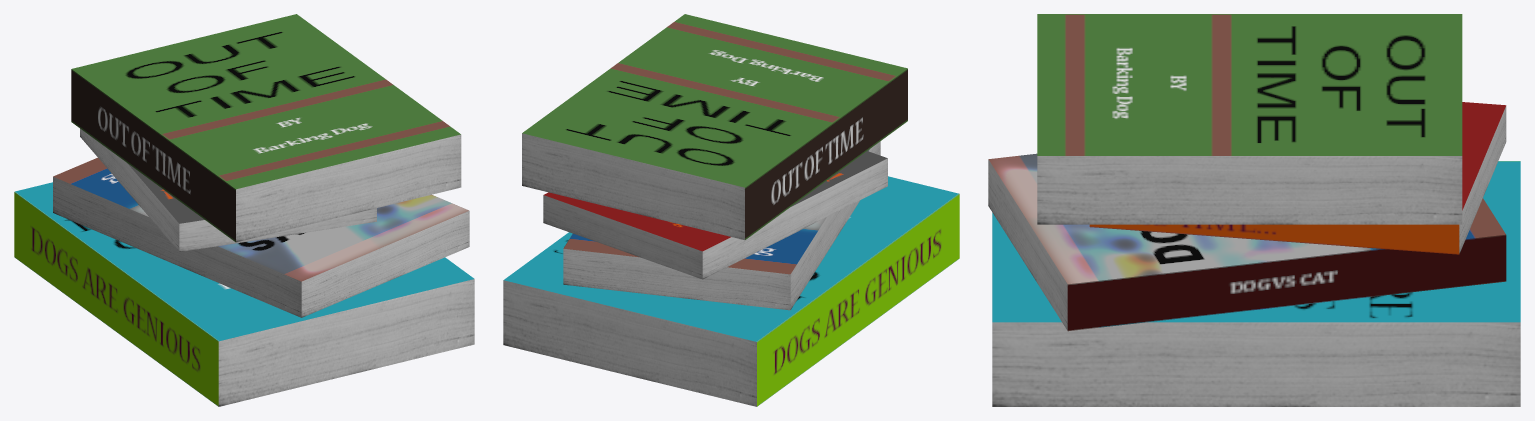
The model's file is Book_Pile_05.FBX.
The picture shows the model from 3 angles, left to right: view 1: azimuth 30°, elevation 25°; view 2: azimuth 150°, elevation 25°; view 3: azimuth 270°, elevation 25°; orthographic projection. The views are drawn at different scales.
Parts seen in each view (by area): view 1: Book_Pile_05; view 2: Book_Pile_05; view 3: Book_Pile_05.
Part boxes in pixels (x1,y1,x2,y2): Book_Pile_05: [14, 14, 474, 406]; Book_Pile_05: [503, 14, 959, 406]; Book_Pile_05: [988, 14, 1520, 406].
Bounding box in the file's own units: 0.1992 × 0.1335 × 0.254.
